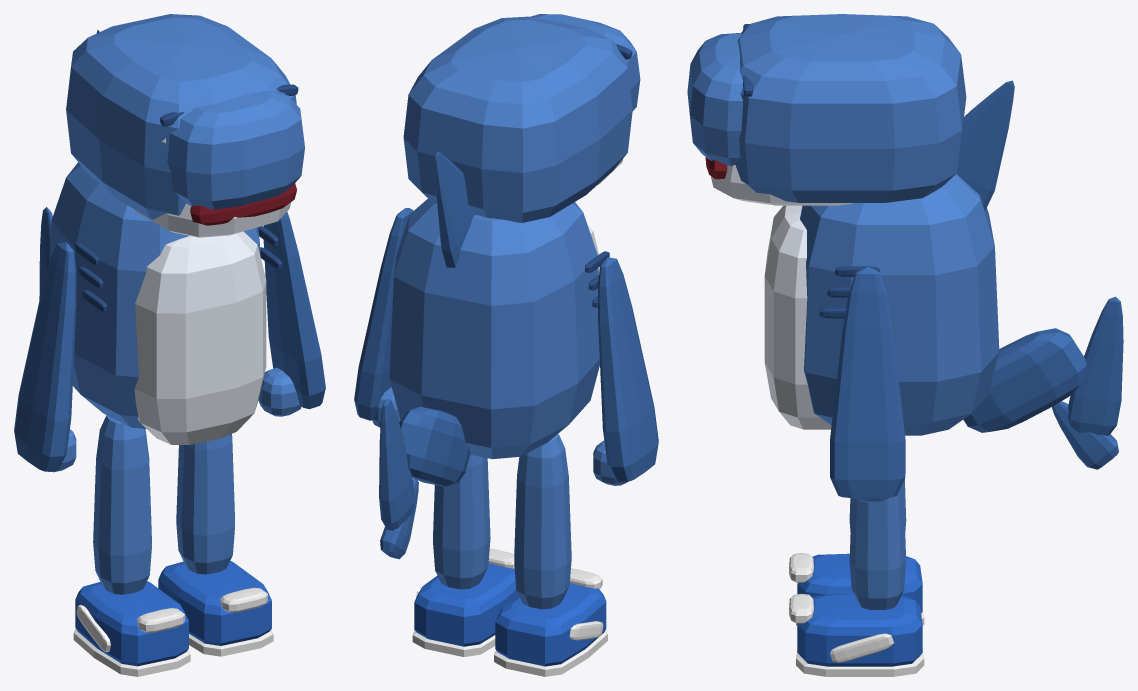
The model's file is br-tralalero.glb.
The picture shows the model from 3 angles, left to right: view 1: azimuth 30°, elevation 25°; view 2: azimuth 150°, elevation 25°; view 3: azimuth 270°, elevation 25°; orthographic projection. The views are drawn at different scales.
Parts seen in each view (by area): view 1: torso, head, leg-right, leg-left, arm-right, arm-left; view 2: torso, head, leg-right, leg-left, arm-right, arm-left; view 3: torso, head, leg-left, arm-left, leg-right.
Part boxes in pixels (left/top/right/bottom): torso: left=39, top=30, right=282, bottom=444; head: left=66, top=14, right=304, bottom=237; leg-right: left=73, top=415, right=190, bottom=676; leg-left: left=158, top=434, right=273, bottom=656; arm-right: left=14, top=242, right=76, bottom=472; arm-left: left=258, top=212, right=325, bottom=416; torso: left=379, top=152, right=609, bottom=559; head: left=403, top=14, right=640, bottom=222; leg-right: left=494, top=434, right=607, bottom=676; leg-left: left=412, top=454, right=518, bottom=656; arm-right: left=593, top=257, right=658, bottom=485; arm-left: left=354, top=208, right=413, bottom=427; torso: left=764, top=80, right=1123, bottom=469; head: left=687, top=14, right=966, bottom=205; leg-left: left=789, top=482, right=924, bottom=676; arm-left: left=830, top=267, right=905, bottom=502; leg-right: left=789, top=479, right=924, bottom=625.
Bounding box in the file's own units: 1.3 × 2.63 × 1.71.
